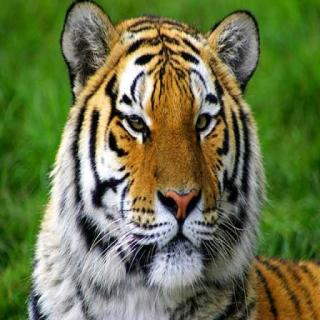Tiger: (15, 0, 314, 320)
